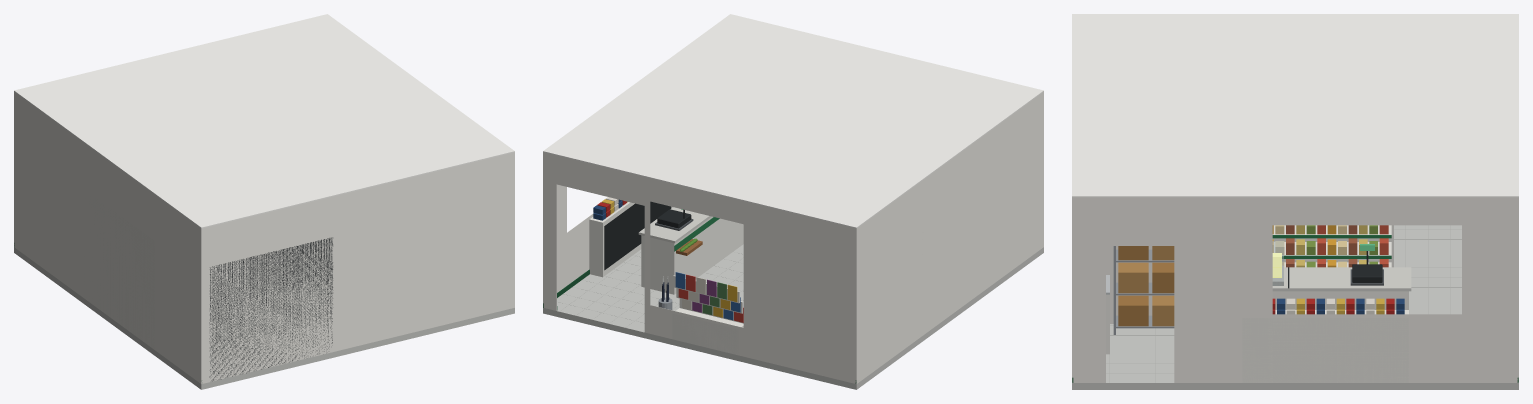
Rendered from kitahama-shop-interior.glb.
3 views of the same model, side by side, from view 1: azimuth 30°, elevation 25°; view 2: azimuth 150°, elevation 25°; view 3: azimuth 270°, elevation 25° (orthographic). The views are drawn at different scales.
Visible parts, largest first — view 1: KitahamaShopInterior / inside paint, KitahamaShopInterior / ceiling, KitahamaShopInterior / dark, KitahamaShopInterior / fitting white, KitahamaShopInterior / vinyl tiles; view 2: KitahamaShopInterior / inside paint, KitahamaShopInterior / ceiling, KitahamaShopInterior / vinyl tiles, KitahamaShopInterior / fitting white, KitahamaShopInterior / dark, KitahamaShopInterior / counter top, KitahamaShopInterior / vinyl tile joint; view 3: KitahamaShopInterior / ceiling, KitahamaShopInterior / inside paint, KitahamaShopInterior / fitting white, KitahamaShopInterior / vinyl tiles, KitahamaShopInterior / counter top, KitahamaShopInterior / cases 1, KitahamaShopInterior / cases 0, KitahamaShopInterior / steel grey, KitahamaShopInterior / house green, KitahamaShopInterior / vinyl tile joint, KitahamaShopInterior / snacks 1, KitahamaShopInterior / dark (+9 smaller).
Part boxes in pixels (x1,y1,x2,y2): KitahamaShopInterior / inside paint: (14,92,514,383); KitahamaShopInterior / ceiling: (14,14,514,228); KitahamaShopInterior / dark: (209,237,332,381); KitahamaShopInterior / fitting white: (79,191,333,381); KitahamaShopInterior / vinyl tiles: (14,247,514,389); KitahamaShopInterior / inside paint: (543,92,1043,383); KitahamaShopInterior / ceiling: (543,14,1043,228); KitahamaShopInterior / vinyl tiles: (543,244,1043,389); KitahamaShopInterior / fitting white: (589,202,943,354); KitahamaShopInterior / dark: (604,201,691,270); KitahamaShopInterior / counter top: (638,207,711,243); KitahamaShopInterior / vinyl tile joint: (558,251,743,331); KitahamaShopInterior / ceiling: (1072,14,1518,197); KitahamaShopInterior / inside paint: (1072,197,1518,382); KitahamaShopInterior / fitting white: (1106,225,1408,382); KitahamaShopInterior / vinyl tiles: (1072,225,1518,389); KitahamaShopInterior / counter top: (1272,267,1411,291); KitahamaShopInterior / cases 1: (1118,246,1174,326); KitahamaShopInterior / cases 0: (1118,246,1174,326); KitahamaShopInterior / steel grey: (1113,246,1174,334); KitahamaShopInterior / house green: (1272,235,1391,258); KitahamaShopInterior / vinyl tile joint: (1106,225,1461,382); KitahamaShopInterior / snacks 1: (1317,225,1388,267); KitahamaShopInterior / dark: (1288,251,1382,288).
Bounding box in the file's own units: 5.7 × 2.82 × 5.9.
